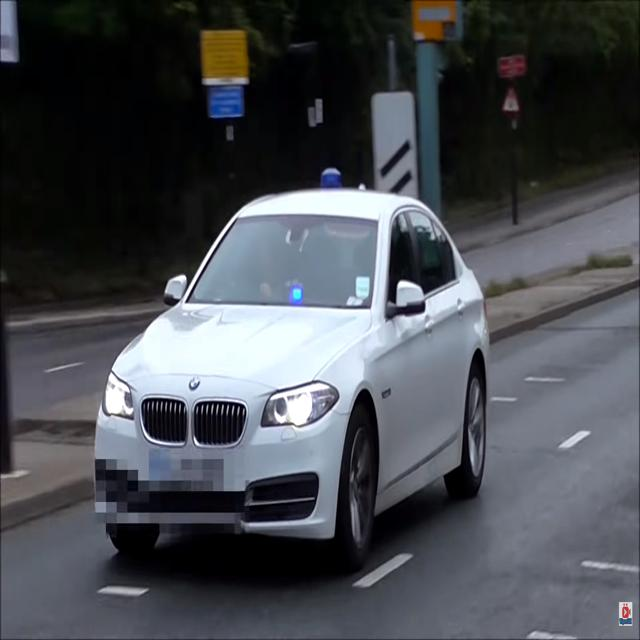emergency-vehicles: (86, 166, 506, 564)
